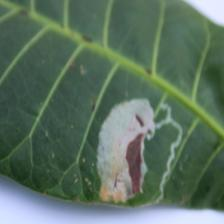leaf miner: (0, 0, 223, 213), (94, 97, 156, 203)
